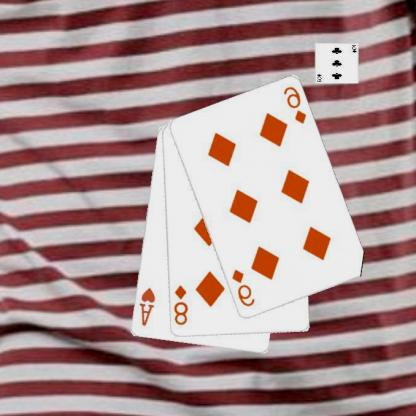6D: (230, 267, 258, 309), (282, 84, 309, 126)
8D: (173, 282, 191, 326)
AH: (138, 285, 158, 328)
